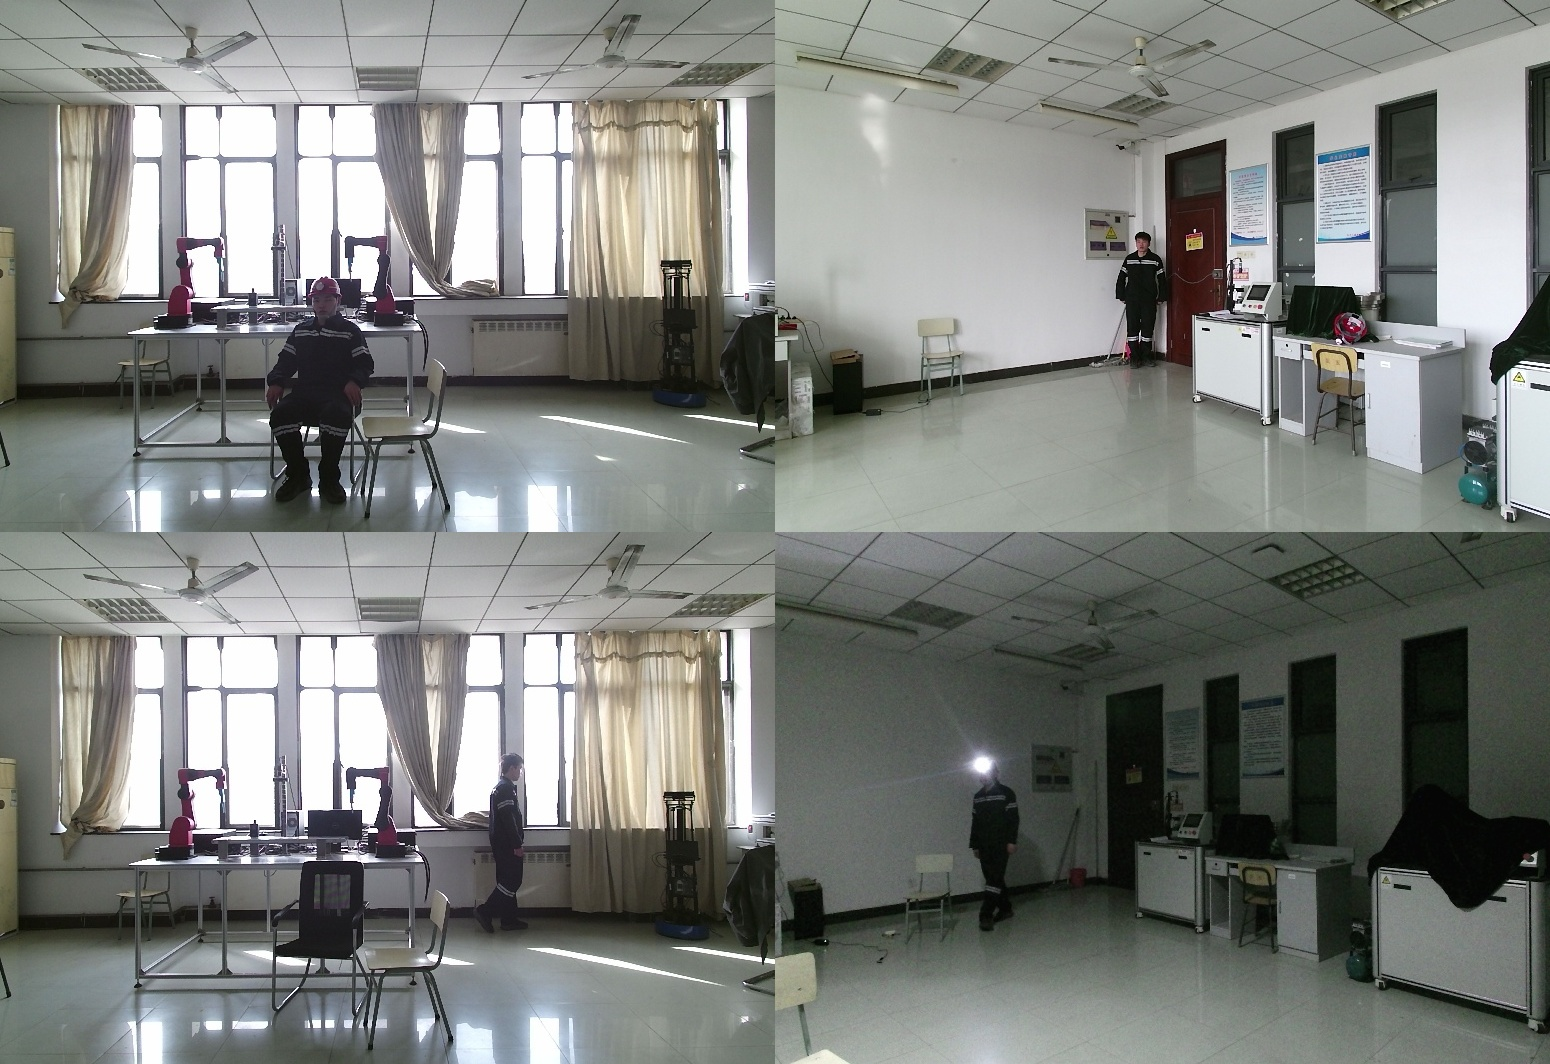person: (268, 278, 380, 504), (464, 752, 529, 940), (967, 760, 1026, 928), (1118, 233, 1171, 370)
